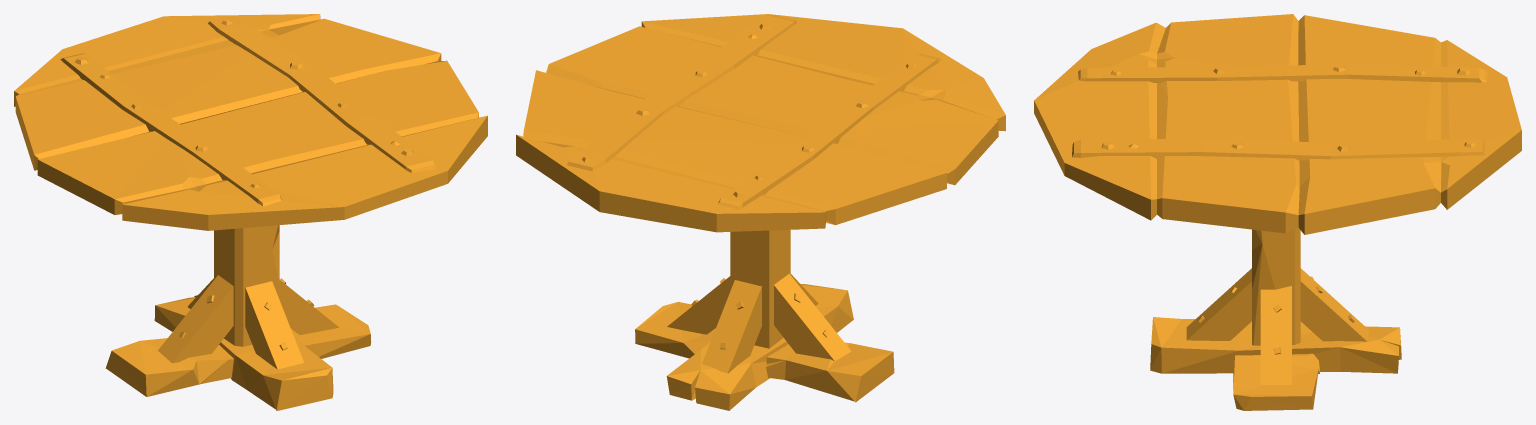
The model's file is SM_Table_Round_B_Fantasy.fbx.
3 renders of one model, left to right at view 1: azimuth 30°, elevation 25°; view 2: azimuth 150°, elevation 25°; view 3: azimuth 270°, elevation 25°, orthographic.
Visible parts, largest first — view 1: table-round-b-fantasy; view 2: table-round-b-fantasy; view 3: table-round-b-fantasy.
Part boxes in pixels (<box>): table-round-b-fantasy: <box>14,14,487,410</box>; table-round-b-fantasy: <box>516,14,1005,410</box>; table-round-b-fantasy: <box>1034,14,1521,410</box>.
Size of the model in its own units: 1.41 by 0.8237 by 1.43.
